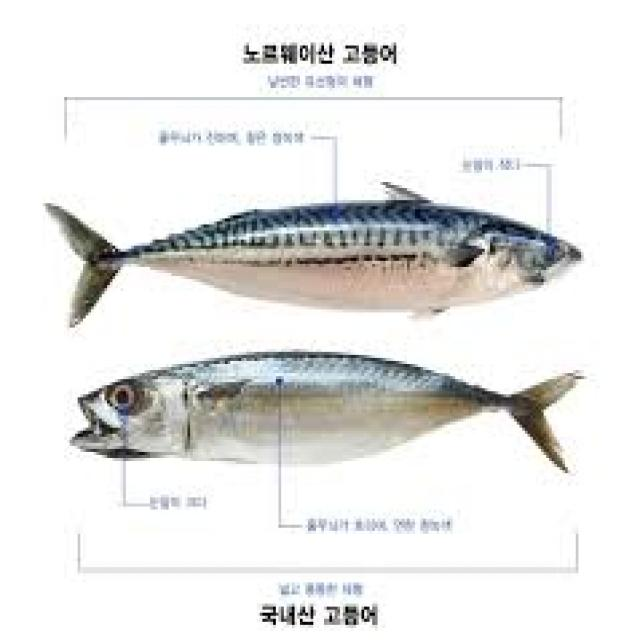fish: (50, 182, 584, 326)
